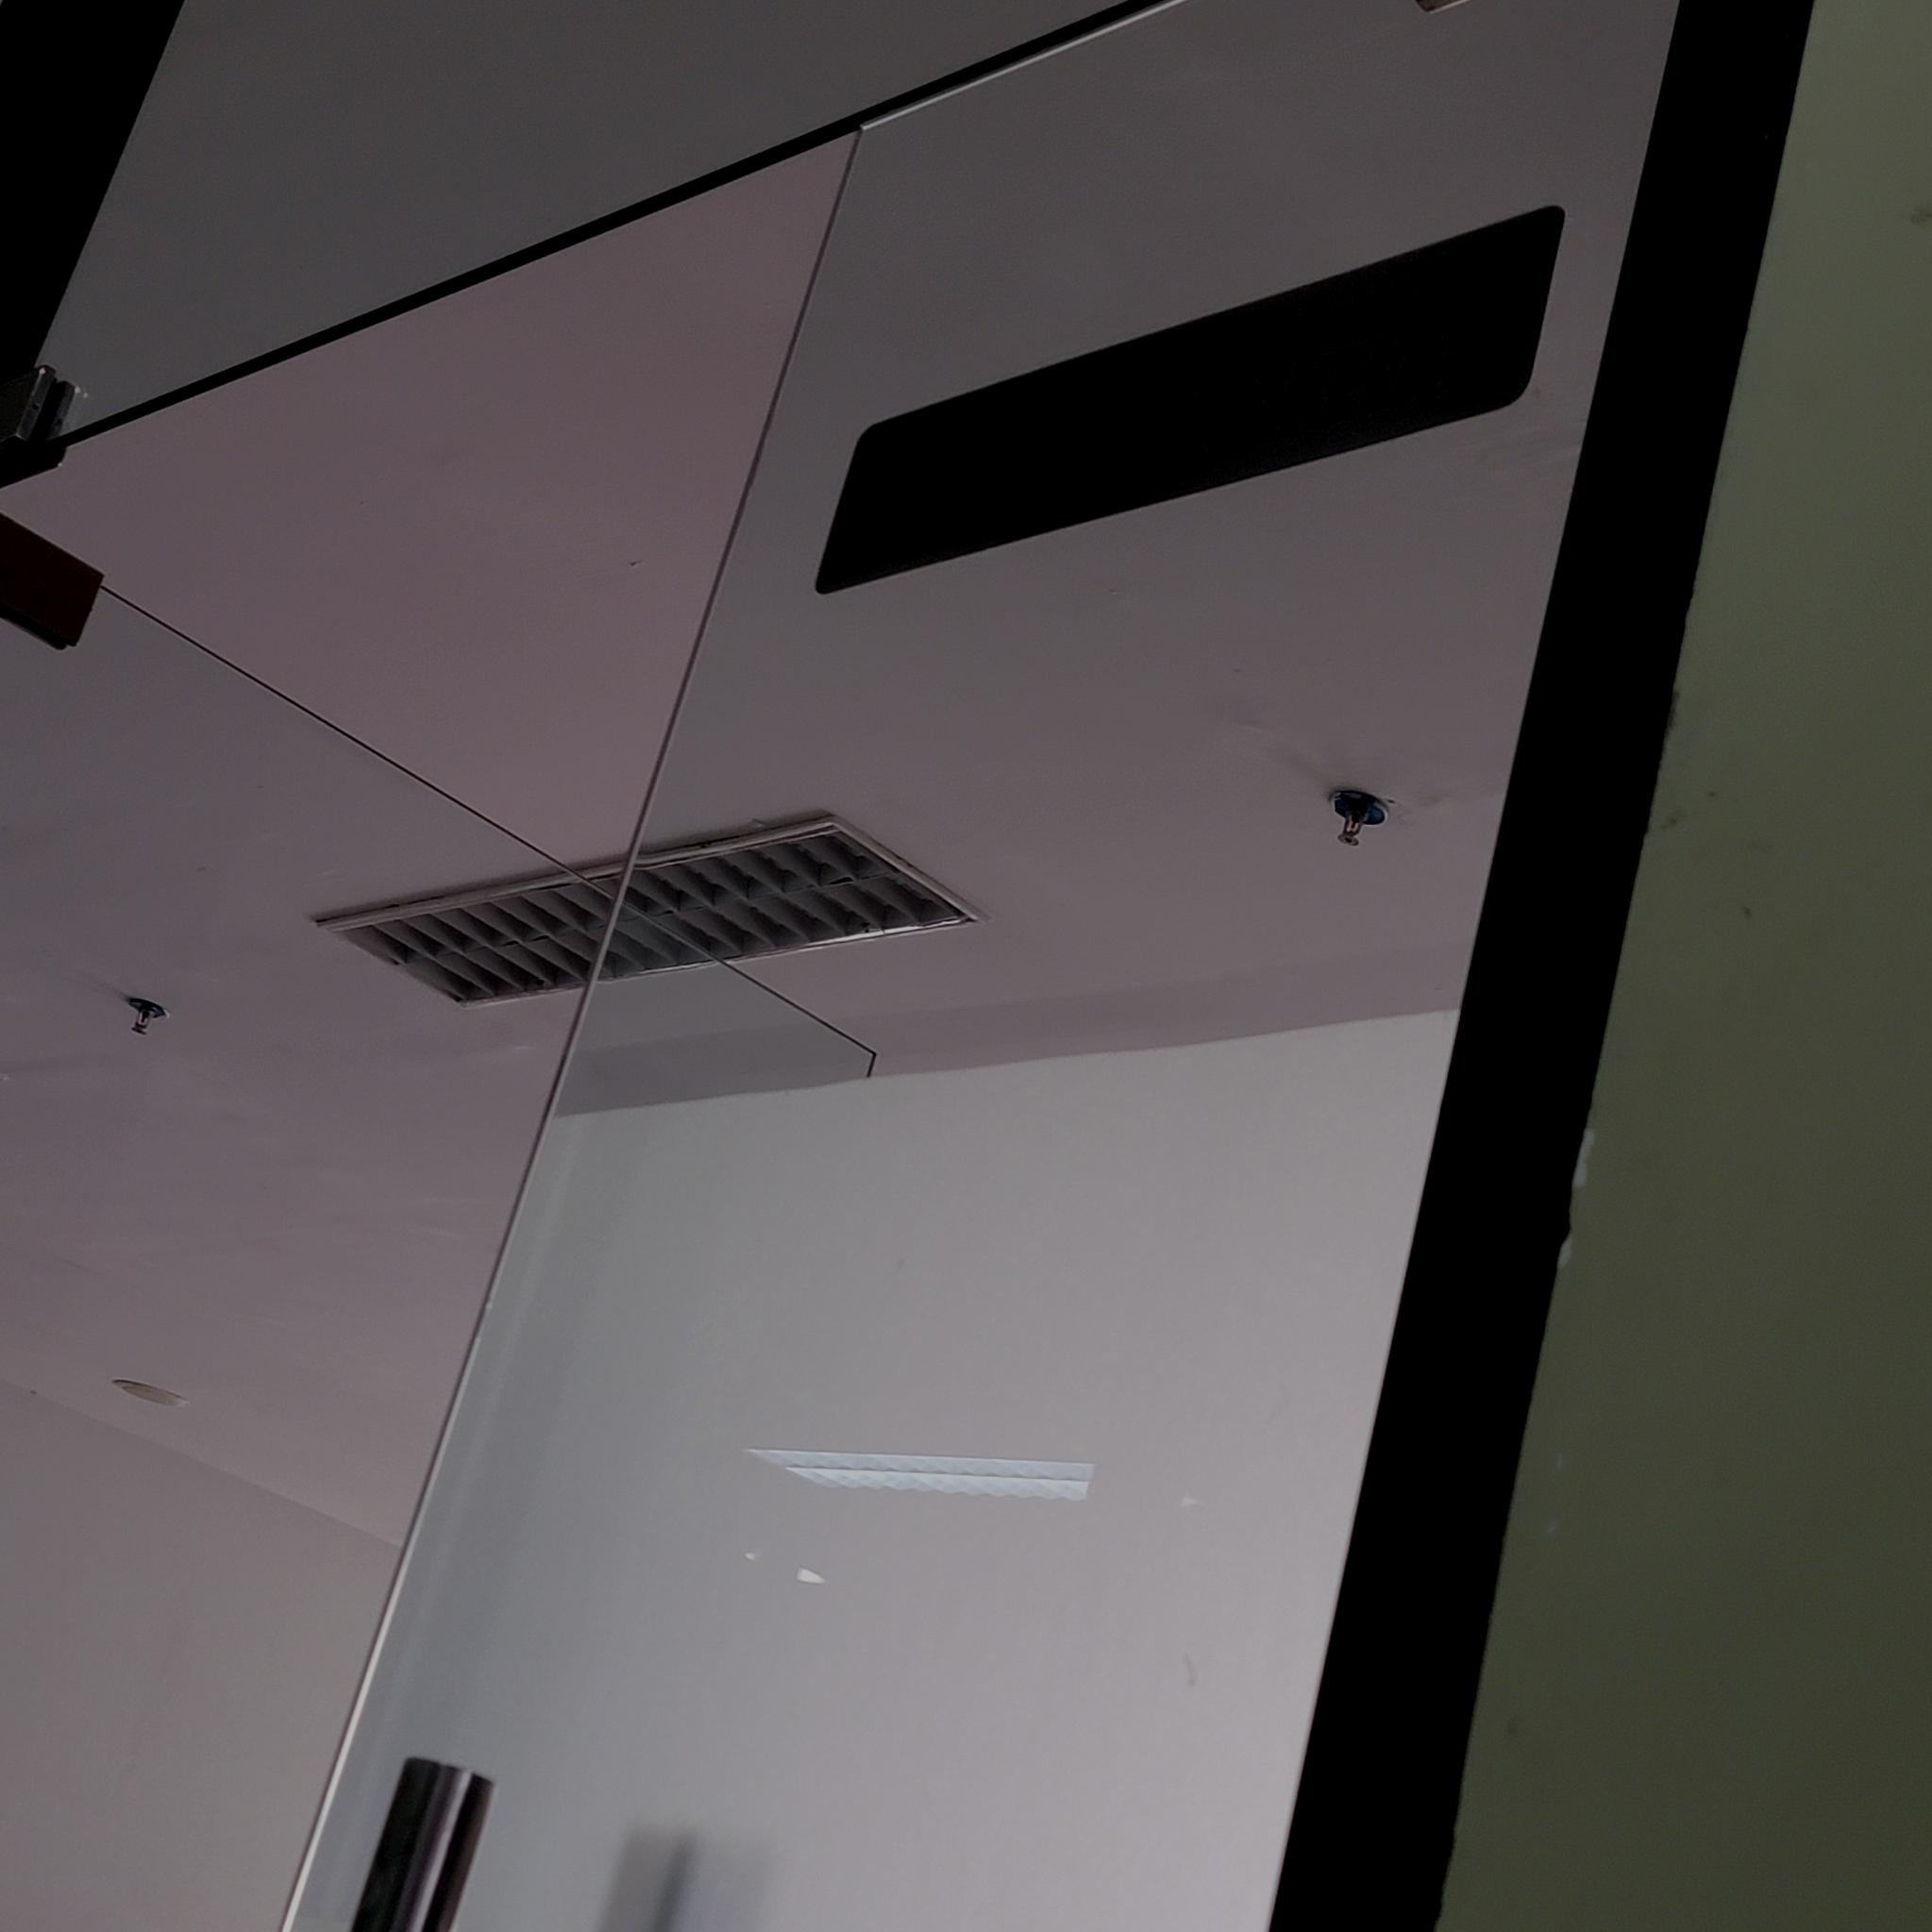plate: (819, 203, 1571, 596)
